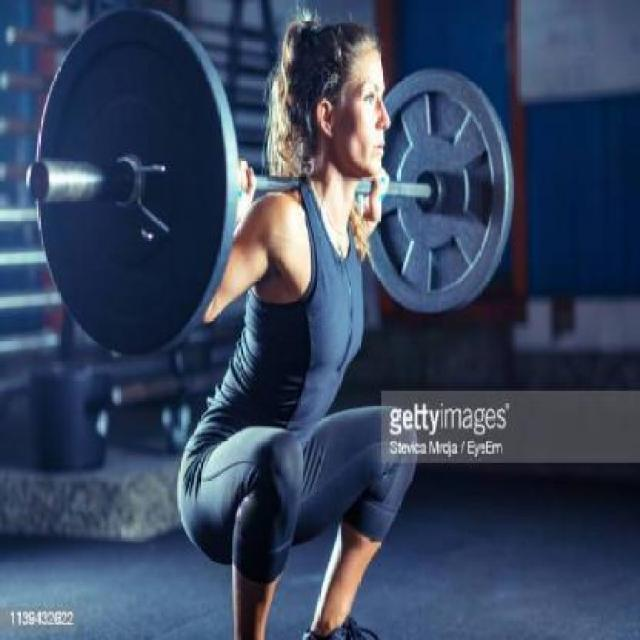Barbell: (22, 157, 53, 206)
